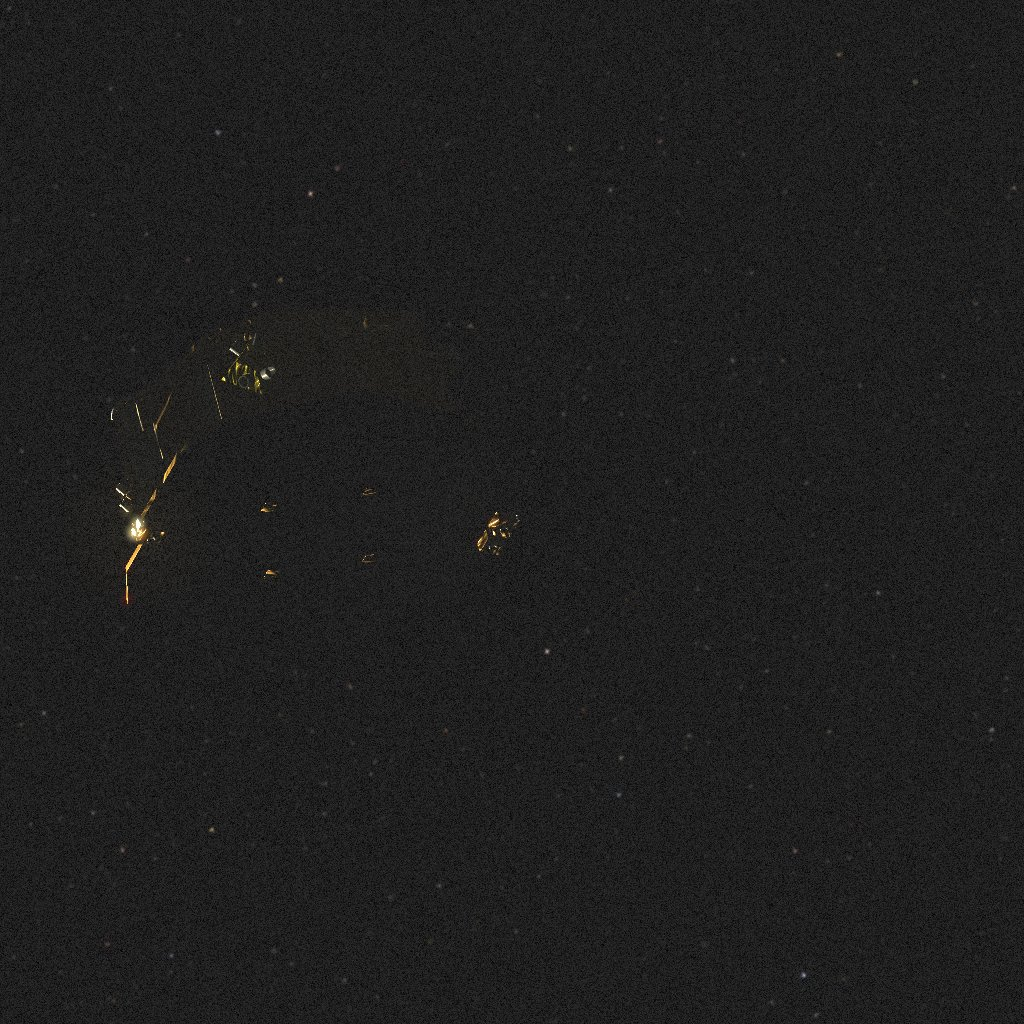lisa_pathfinder: (111, 307, 520, 670)
